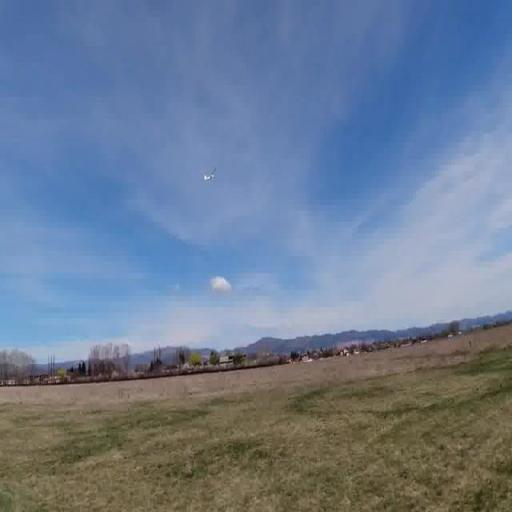uav: (202, 168, 218, 186)
